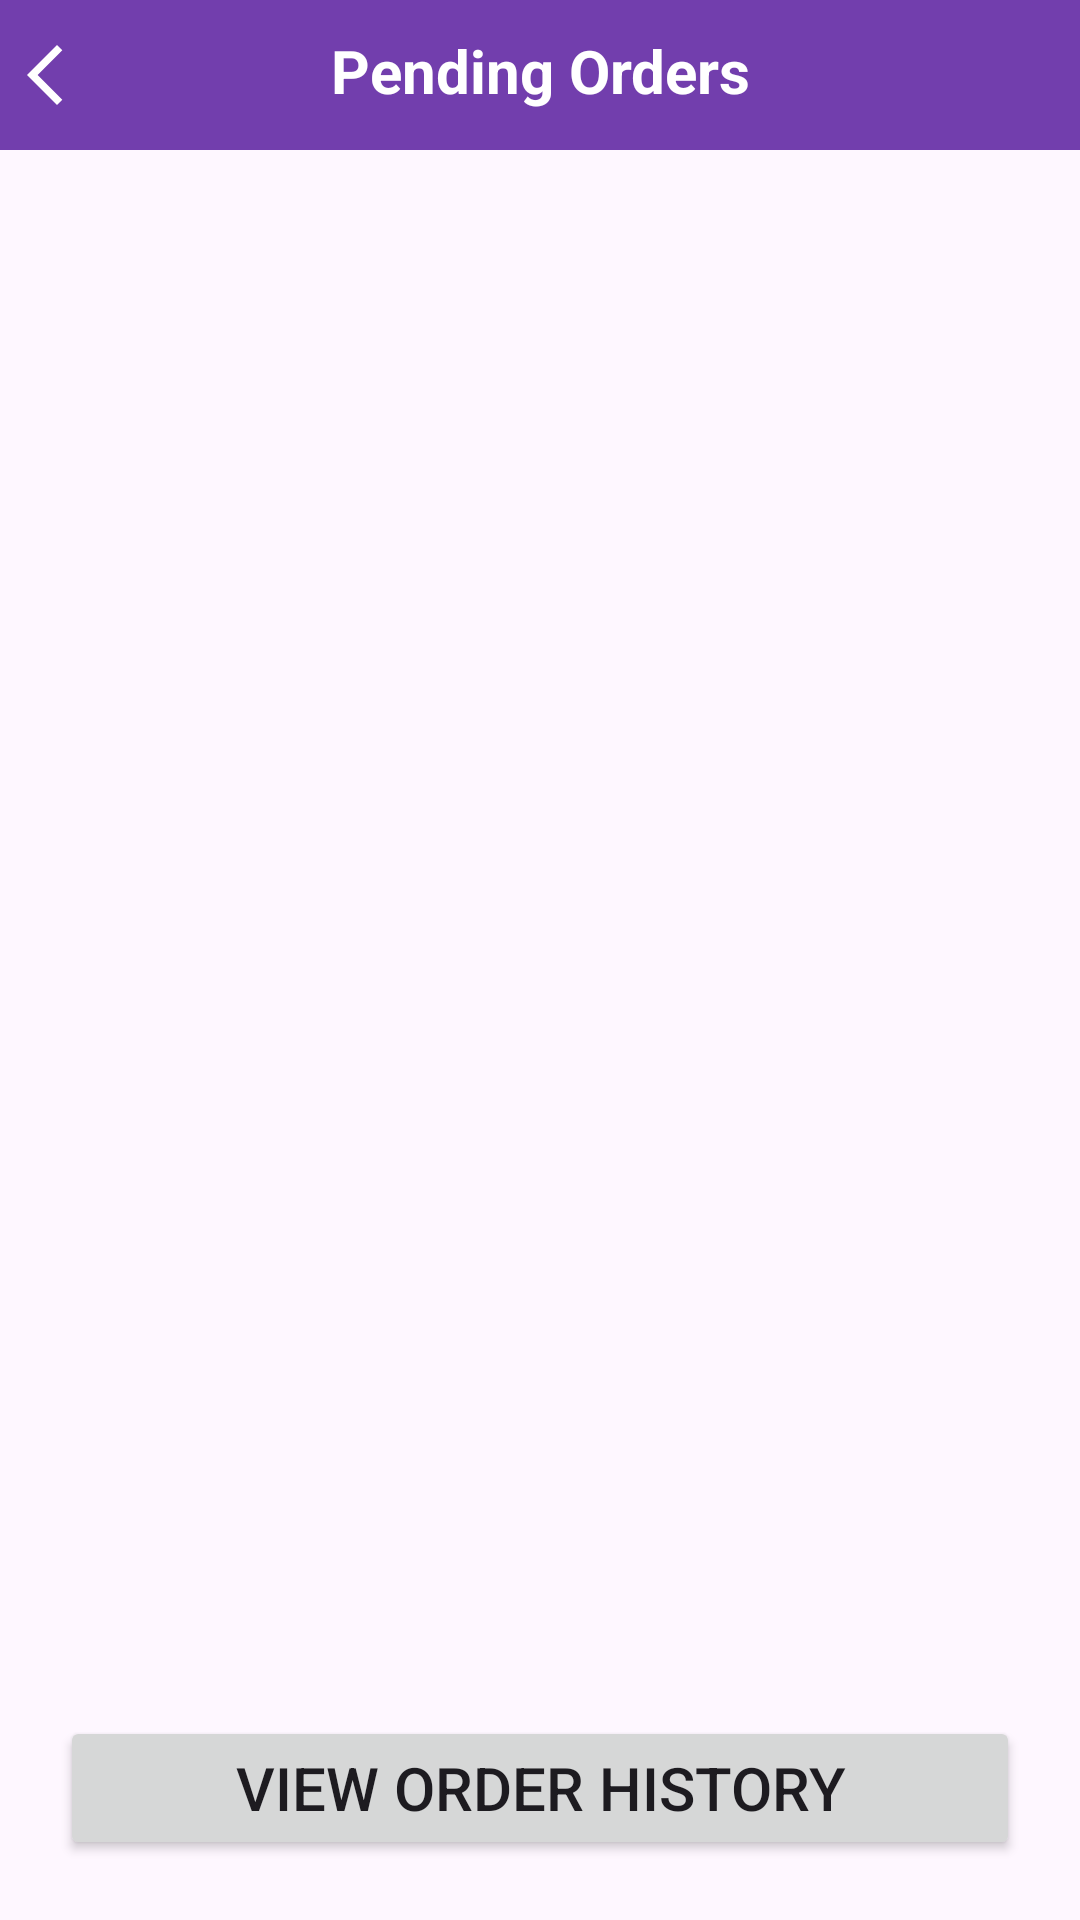

Locate icon controls on the screen. Image size 1080x1920, boxes as [x1,y1,x2,y2].
arrow back: [27,45,62,105]
